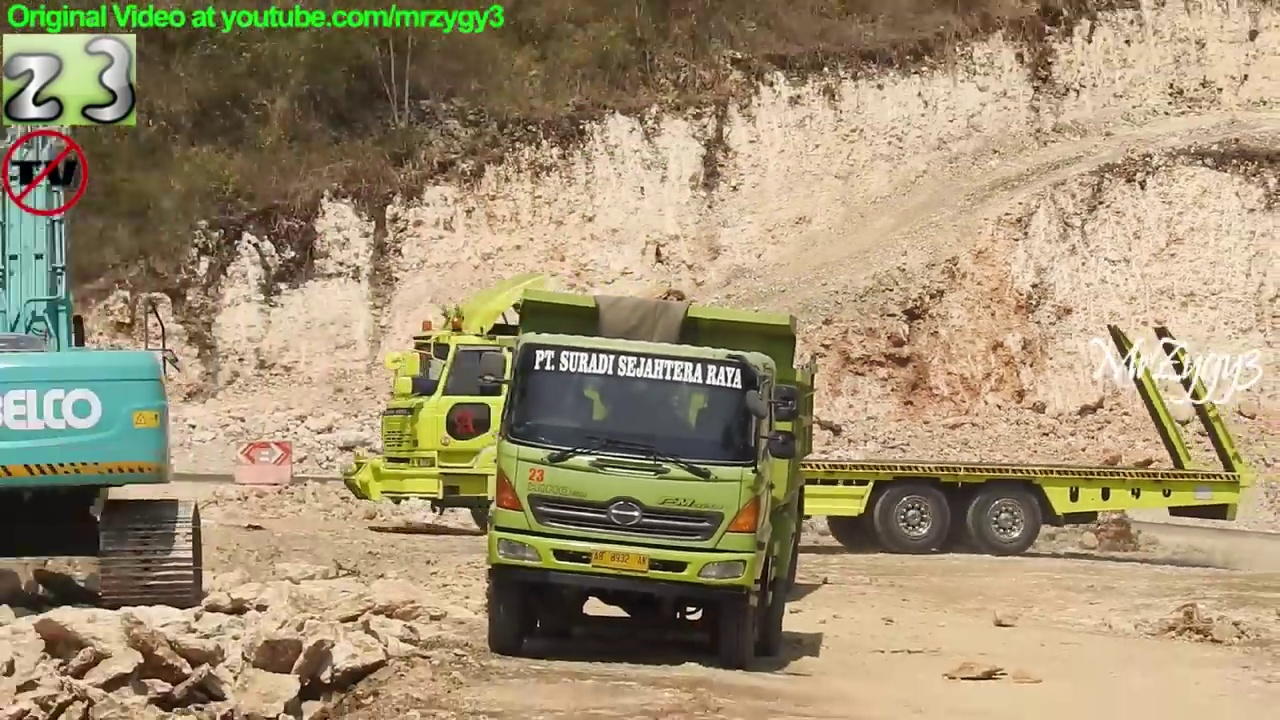excavator: (1, 42, 209, 616)
truck: (338, 274, 1255, 562), (477, 282, 819, 672)
